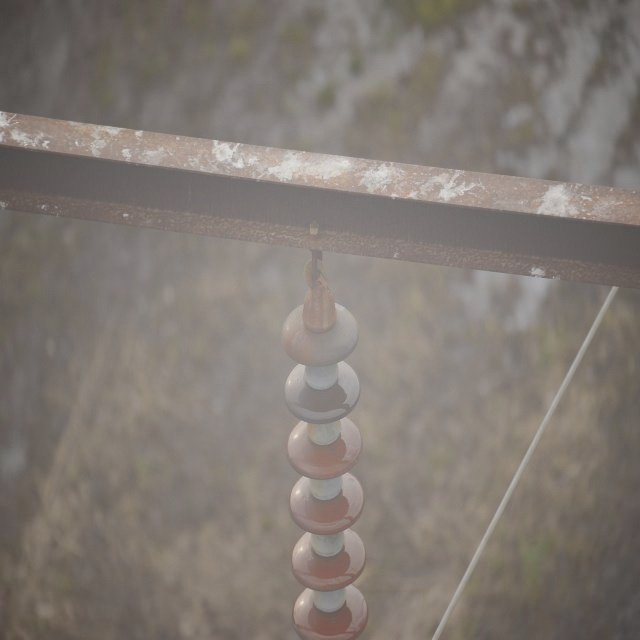insulator: (281, 301, 369, 639)
